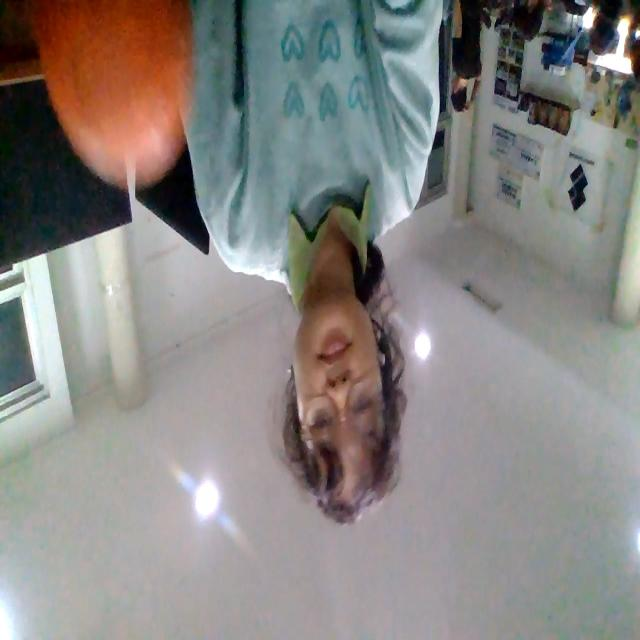ball: (30, 2, 194, 192)
